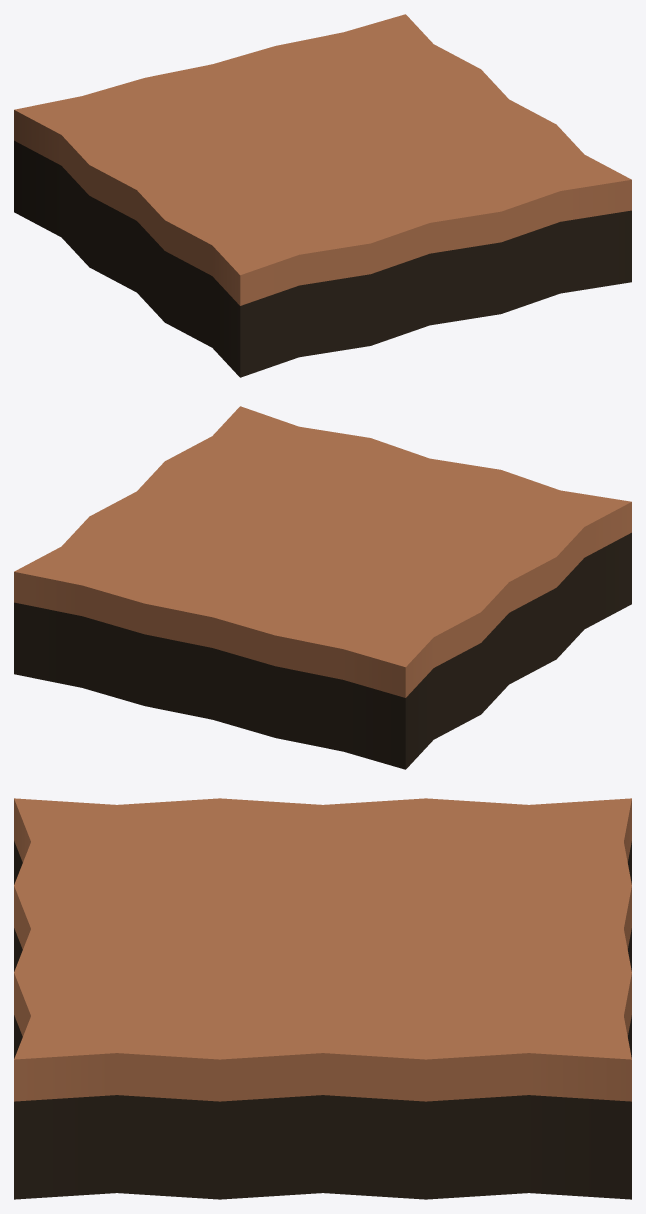
File: jaggeredTile-21a_col.fbx
3 renders of one model, top to bottom at view 1: azimuth 30°, elevation 25°; view 2: azimuth 150°, elevation 25°; view 3: azimuth 270°, elevation 25°, orthographic. The views are drawn at different scales.
Parts seen in each view (by area): view 1: jaggeredTile-21a.col; view 2: jaggeredTile-21a.col; view 3: jaggeredTile-21a.col.
Part boxes in pixels (x1=…): jaggeredTile-21a.col: x1=14, y1=14, x2=631, y2=377; jaggeredTile-21a.col: x1=14, y1=406, x2=631, y2=769; jaggeredTile-21a.col: x1=14, y1=798, x2=631, y2=1199.
Size of the model in its own units: 2 by 0.5 by 2.
Materials: 1 (1 with a texture image).
